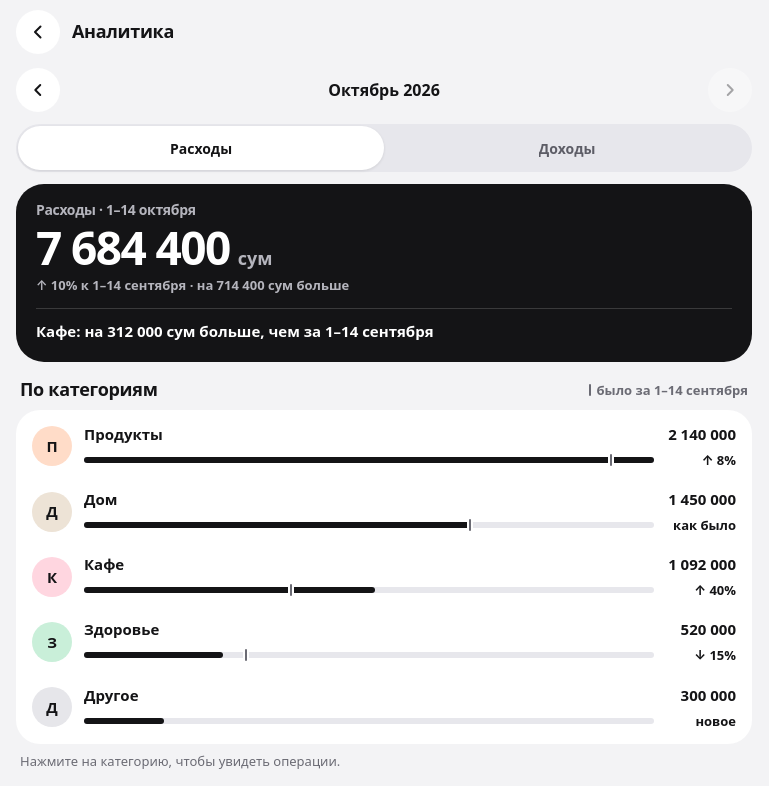
Test: Analytics: expenses of the current month (board «Аналитика · расходы») › the stepper goes to the previous month, and not past the current one
Expected: the button named "Следующий месяц" is disabled, x1=708 y1=68 x2=752 y2=112
Click the button named "Предыдущий месяц".
click(38, 90)  # box x1=16 y1=68 x2=60 y2=112
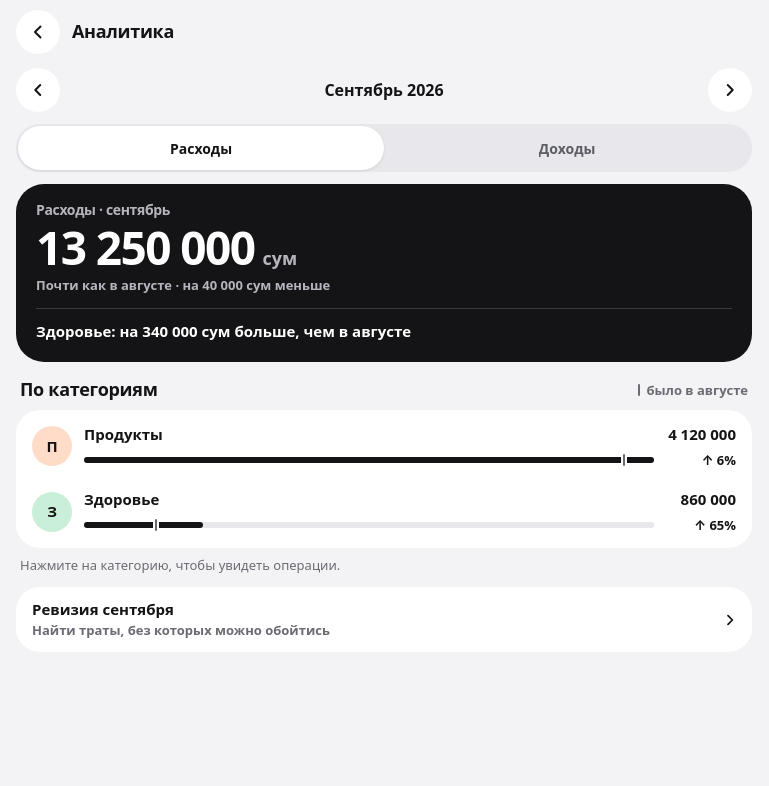
Result: the text "Сентябрь 2026" is shown at x1=324 y1=79 x2=444 y2=101
Result: the text "Расходы · сентябрь" is shown at x1=36 y1=200 x2=170 y2=219
Result: the text "Почти как в августе · на 40 000 сум меньше" is shown at x1=36 y1=276 x2=330 y2=294
